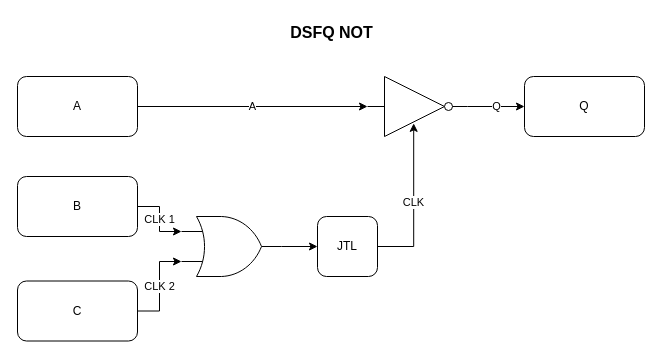
Image size: 662x358. Some labels were removed from this diagram. Here are the shapes that lost their labels. From the top down, the box of each, then its label:
(366, 76, 468, 136): RSFQ NOT
(180, 216, 282, 276): DSFQ OR
